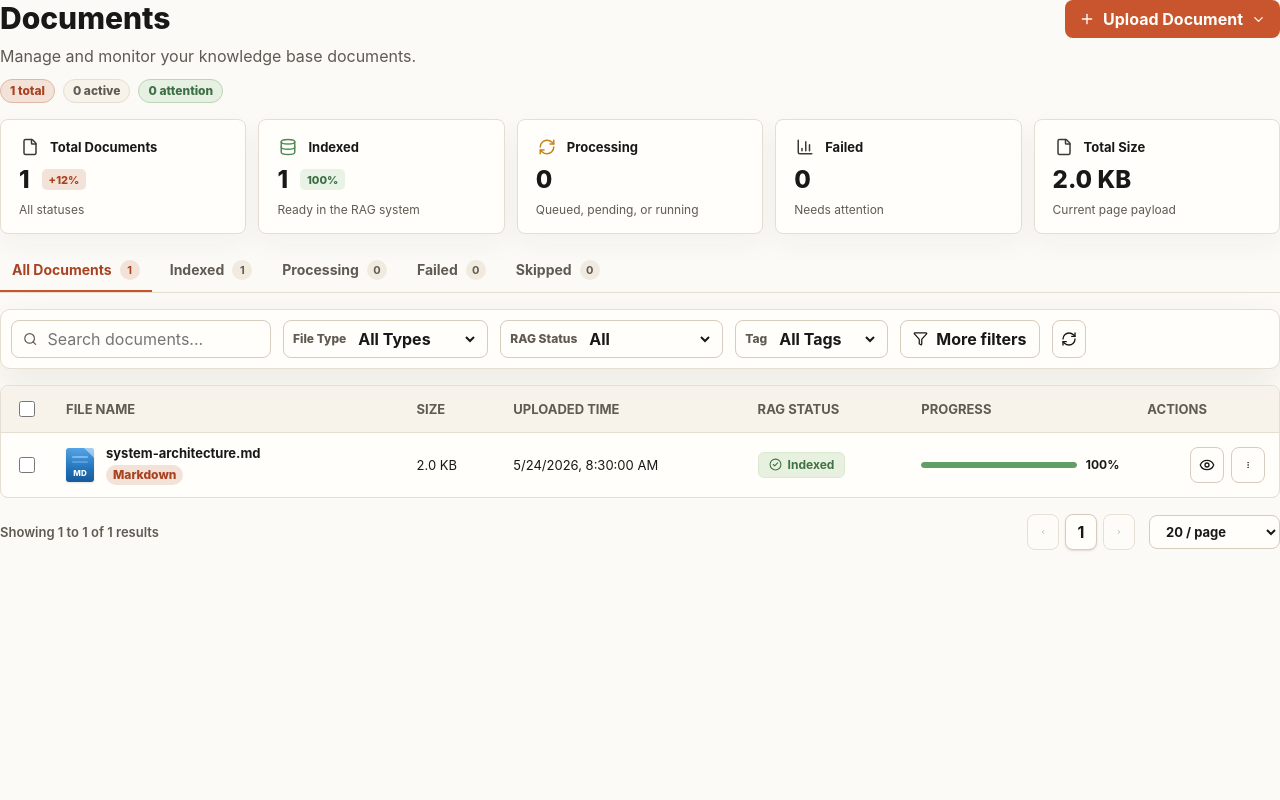
Test: DocumentPreviewDrawer › loads drawer content through the safe preview API and keeps the full preview route
Step 1. Click the button named "View system-architecture.md" → (1207, 465), box [1190,447,1224,483]
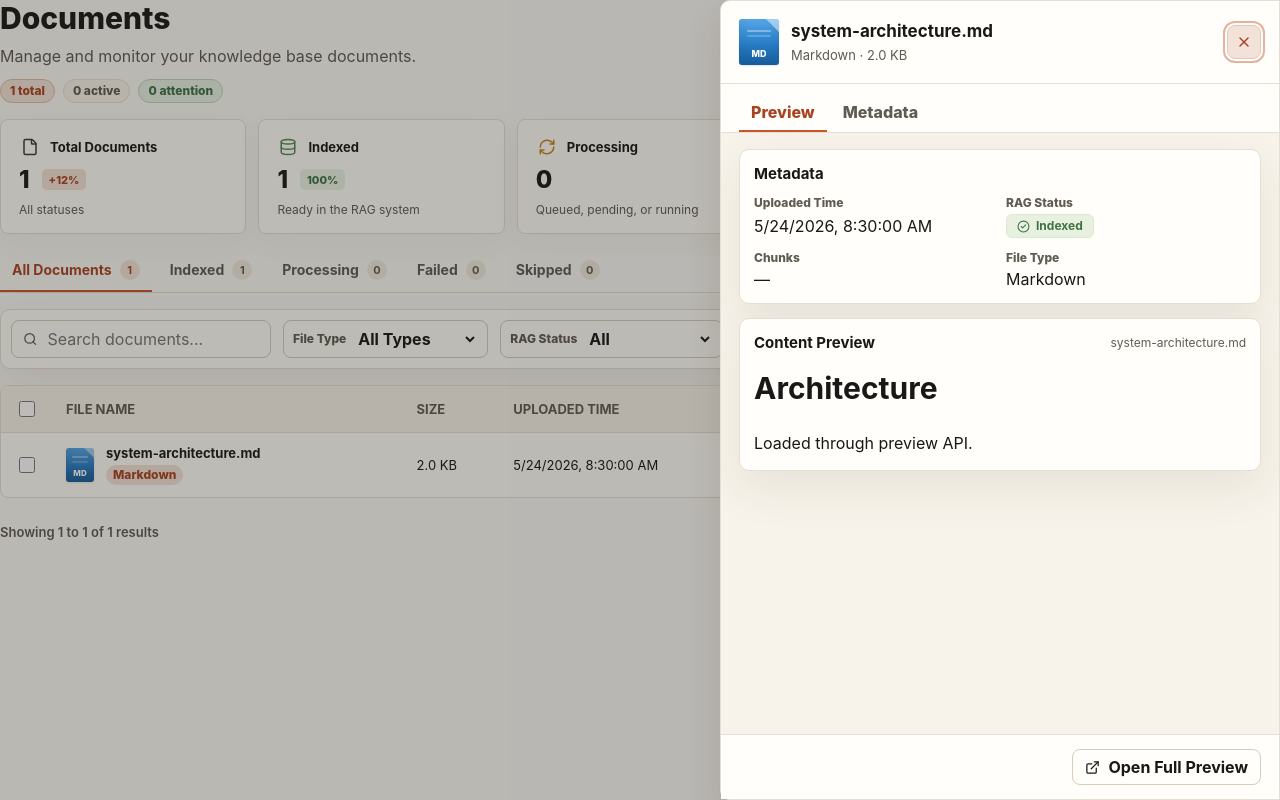
Result: the dialog named "Preview system-architecture.md" is shown at [720,0,1279,799]
Result: the tab "Metadata" is shown at [831,94,930,132]
Result: the text "Uploaded Time" is shown at [754,195,843,210]
